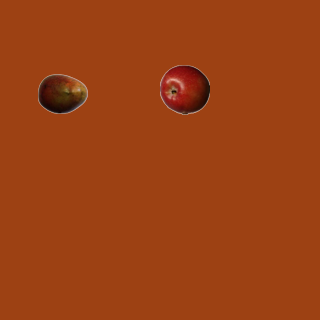Apple Braeburn: (159, 64, 209, 114)
Mango Red: (37, 68, 87, 118)
